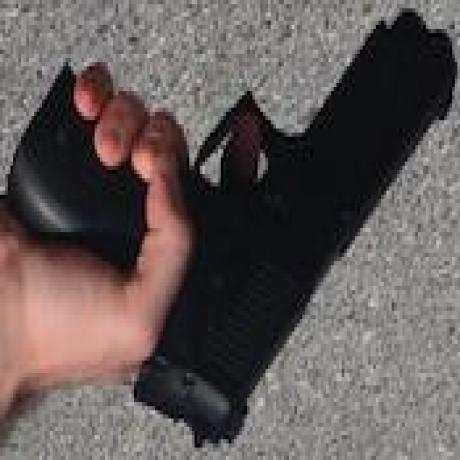1: (0, 62, 189, 412)
weapon: (21, 12, 452, 434)
